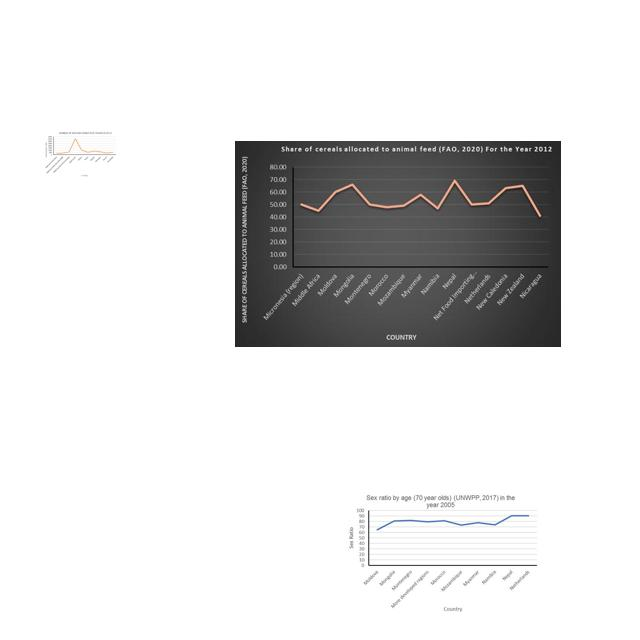Graph: (235, 141, 561, 347), (344, 493, 540, 612), (43, 130, 118, 179)
